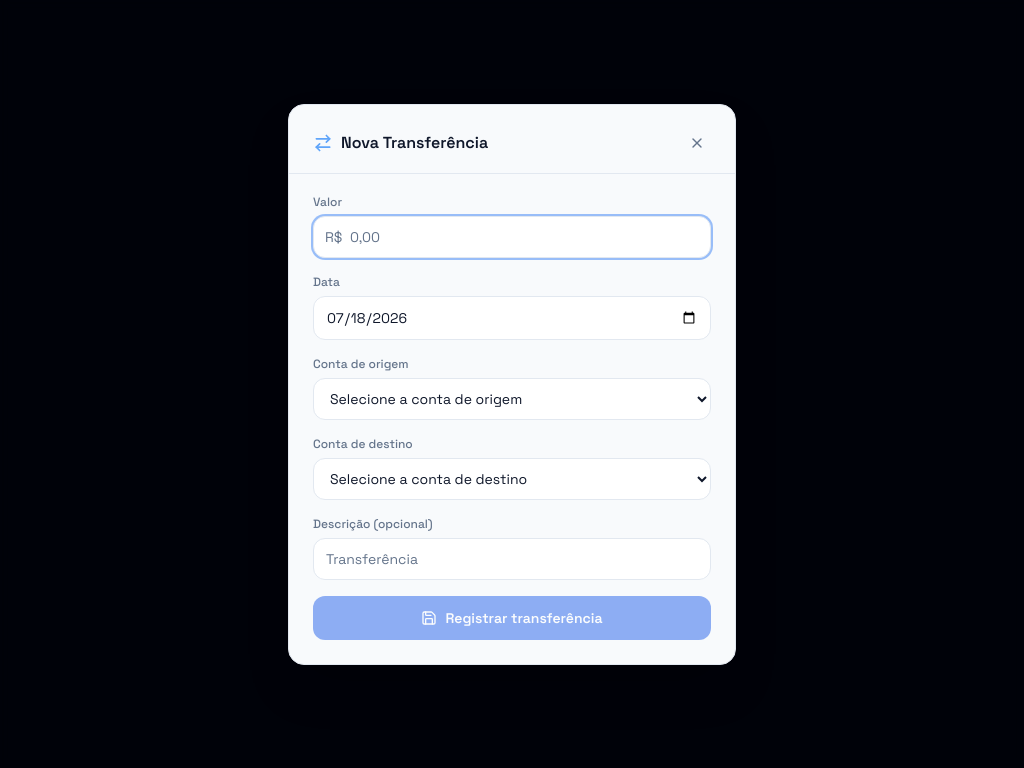
Test: TransferForm › bloqueia origem igual ao destino com mensagem e submit desabilitado
Select "Corrente" in the dropdown labelled "Conta de origem" at (512, 398), box [313,378,711,420]
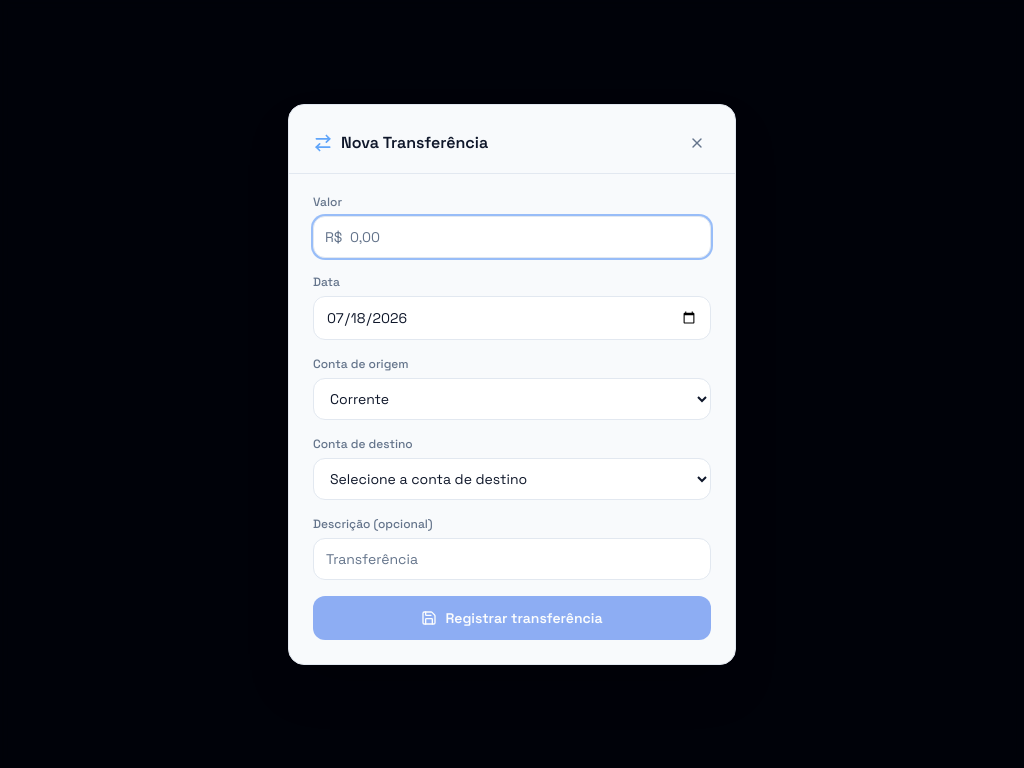
Select "Corrente" in the dropdown labelled "Conta de destino" at (512, 478), box [313,458,711,500]
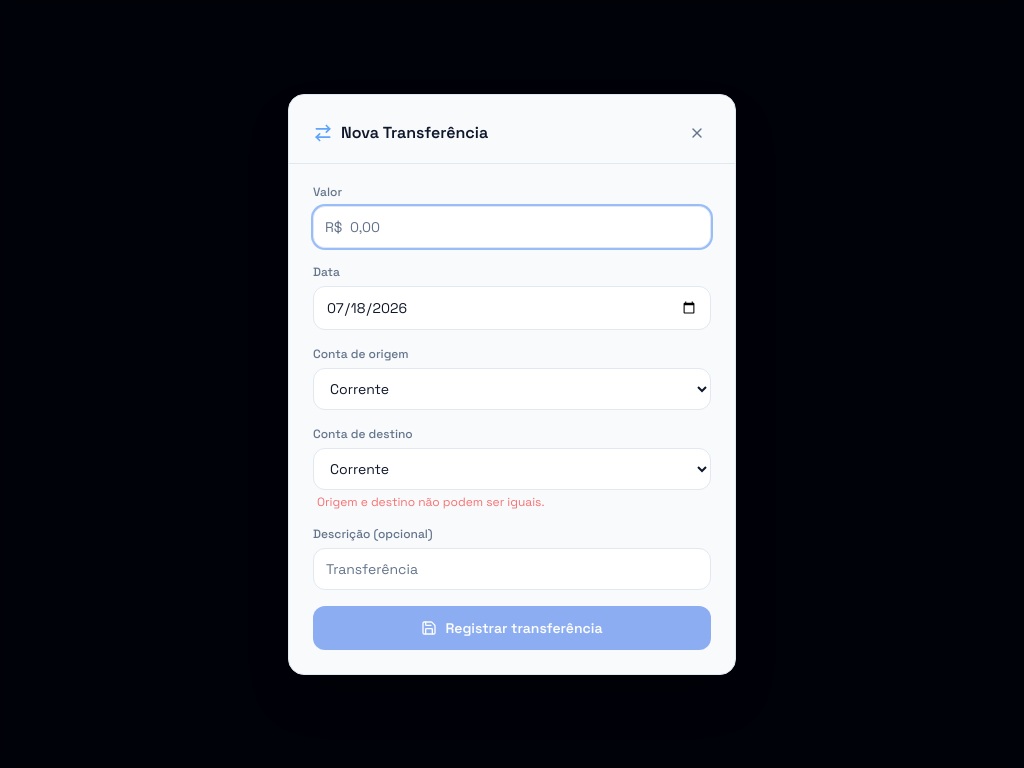
Expected: the button "Registrar transferência" is disabled, [313,606,711,650]
Expected: the text "Origem e destino não podem ser iguais." is shown, [317,494,544,510]
